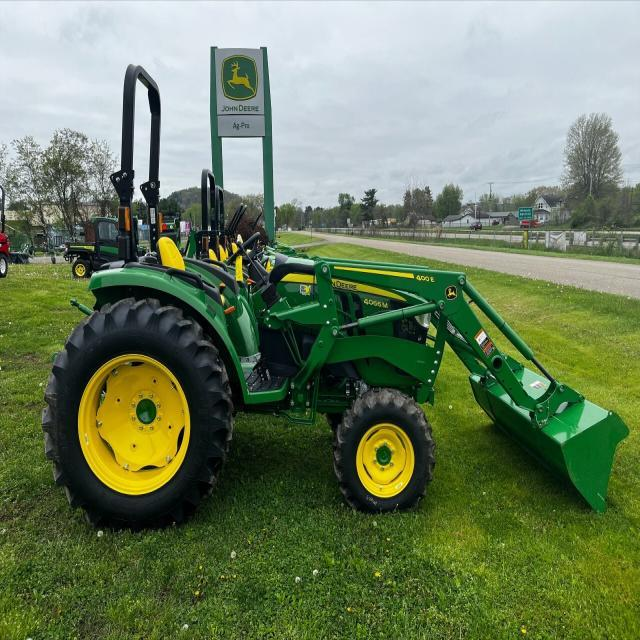Tratores - v5 YOLO V8L 2024-11-13: (41, 46, 632, 561)
